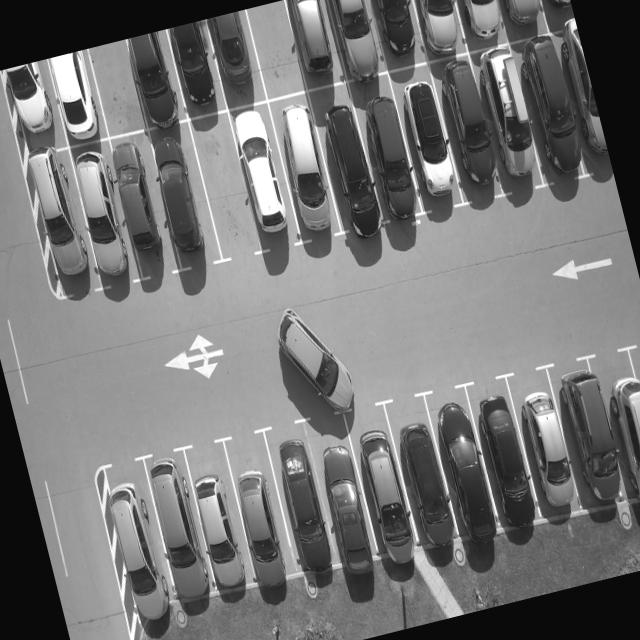car: (340, 400, 425, 571), (260, 415, 346, 583), (136, 443, 220, 614), (420, 379, 504, 550), (502, 362, 588, 528), (216, 424, 302, 588), (461, 367, 545, 530), (100, 459, 180, 630), (18, 144, 102, 300), (142, 118, 224, 276), (264, 89, 346, 244), (547, 350, 624, 514), (466, 38, 545, 195), (101, 130, 180, 286), (510, 37, 592, 184), (225, 99, 303, 253), (64, 138, 141, 292), (429, 54, 509, 202), (306, 399, 376, 563), (386, 393, 459, 550), (307, 84, 384, 232), (350, 82, 426, 225), (183, 434, 253, 586), (391, 59, 462, 204), (593, 352, 640, 521), (42, 48, 110, 147), (0, 59, 66, 157), (203, 9, 267, 110), (123, 29, 188, 128), (164, 20, 226, 120), (285, 0, 347, 89), (363, 0, 429, 69), (328, 0, 386, 77), (405, 0, 472, 61), (484, 0, 553, 42), (449, 0, 510, 45), (526, 0, 575, 36)
free: (186, 110, 264, 263), (242, 0, 309, 99), (84, 38, 150, 138)
